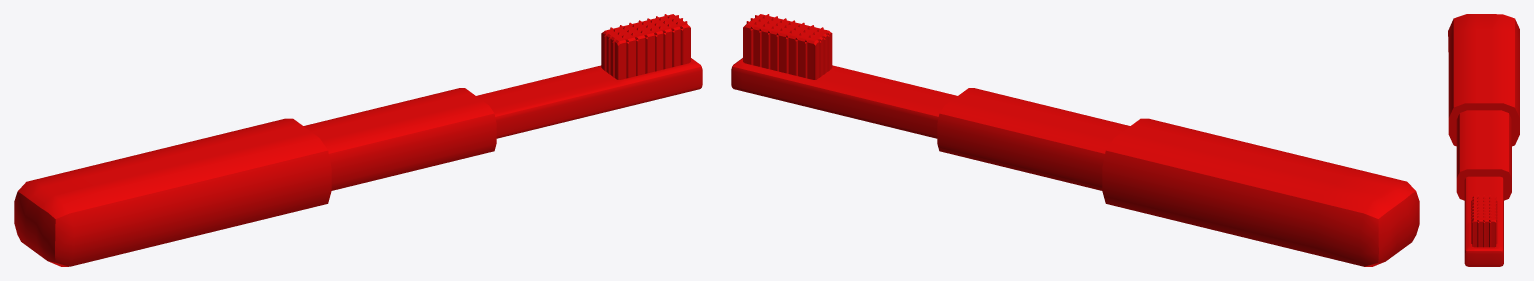
Rendered from TIpo6_Mesh.fbx.
3 views of the same model, side by side, from view 1: azimuth 30°, elevation 25°; view 2: azimuth 150°, elevation 25°; view 3: azimuth 270°, elevation 25° (orthographic). The views are drawn at different scales.
Visible parts, largest first — view 1: Escova_Tipo6_1; view 2: Escova_Tipo6_1; view 3: Escova_Tipo6_1.
Boxes of the visible parts, <box> form: Escova_Tipo6_1: <box>14,14,702,266</box>; Escova_Tipo6_1: <box>731,14,1419,266</box>; Escova_Tipo6_1: <box>1448,14,1519,266</box>.
Size of the model in its own units: 1.36 by 0.169 by 0.1816.
